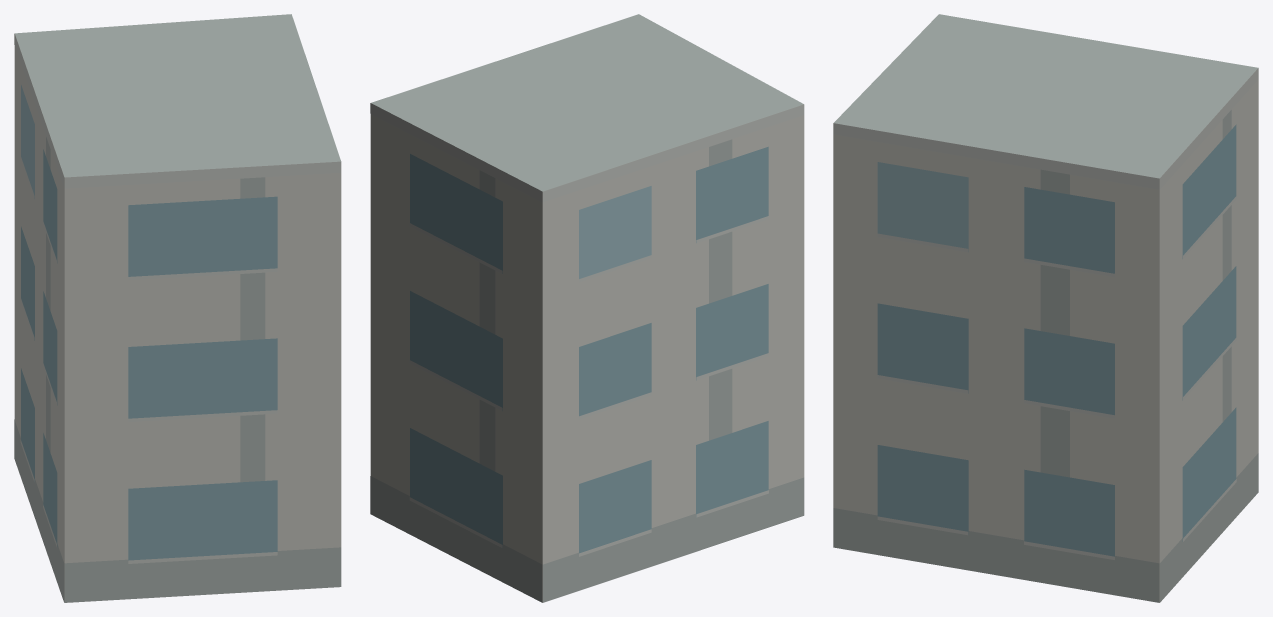
The model's file is survey-upis-32531262.glb.
The picture shows the model from 3 angles, left to right: view 1: azimuth 30°, elevation 25°; view 2: azimuth 150°, elevation 25°; view 3: azimuth 270°, elevation 25°; orthographic projection. The views are drawn at different scales.
Parts seen in each view (by area): view 1: survey-upis-32531262.tmp; view 2: survey-upis-32531262.tmp; view 3: survey-upis-32531262.tmp.
Part boxes in pixels (<box>): survey-upis-32531262.tmp: <box>14,14,341,602</box>; survey-upis-32531262.tmp: <box>370,14,804,602</box>; survey-upis-32531262.tmp: <box>833,14,1258,602</box>.
Bounding box in the file's own units: 7.62 × 9.15 × 8.32.
